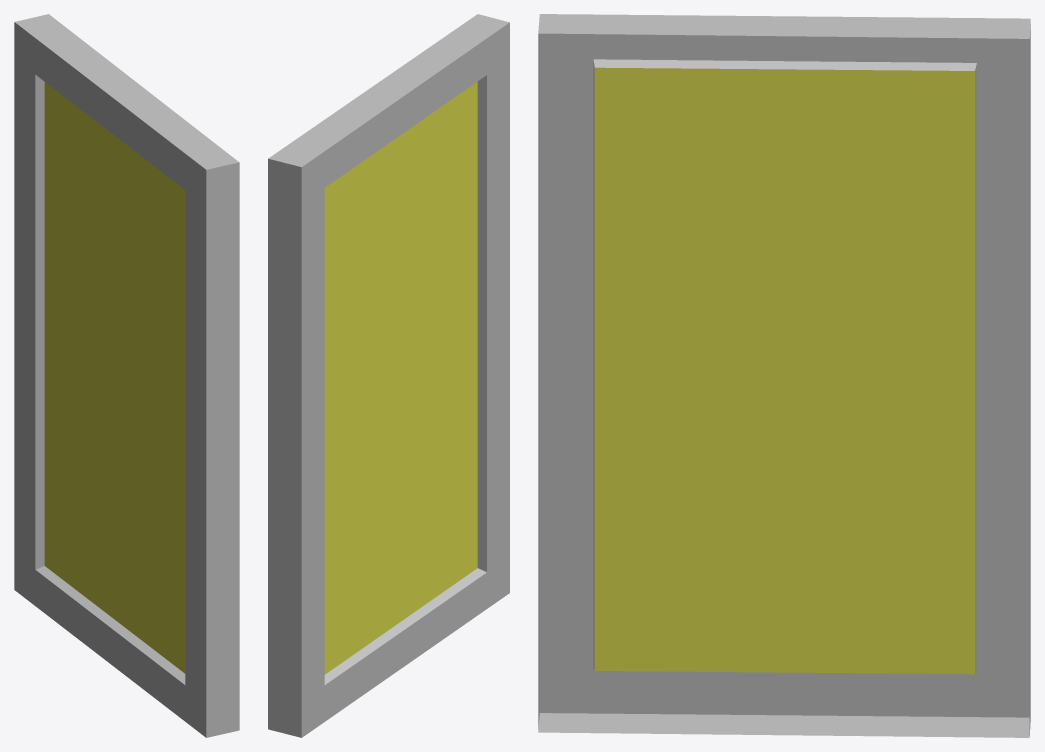
The model's file is HUD.fbx.
3 renders of one model, left to right at view 1: azimuth 30°, elevation 25°; view 2: azimuth 150°, elevation 25°; view 3: azimuth 270°, elevation 25°, orthographic. The views are drawn at different scales.
Parts seen in each view (by area): view 1: temperaturepanel; view 2: temperaturepanel; view 3: temperaturepanel.
Boxes of the visible parts, <box> form: temperaturepanel: <box>14,14,239,737</box>; temperaturepanel: <box>268,14,509,737</box>; temperaturepanel: <box>538,14,1030,737</box>.
Bounding box in the file's own units: 4.46 × 58.23 × 37.18.
